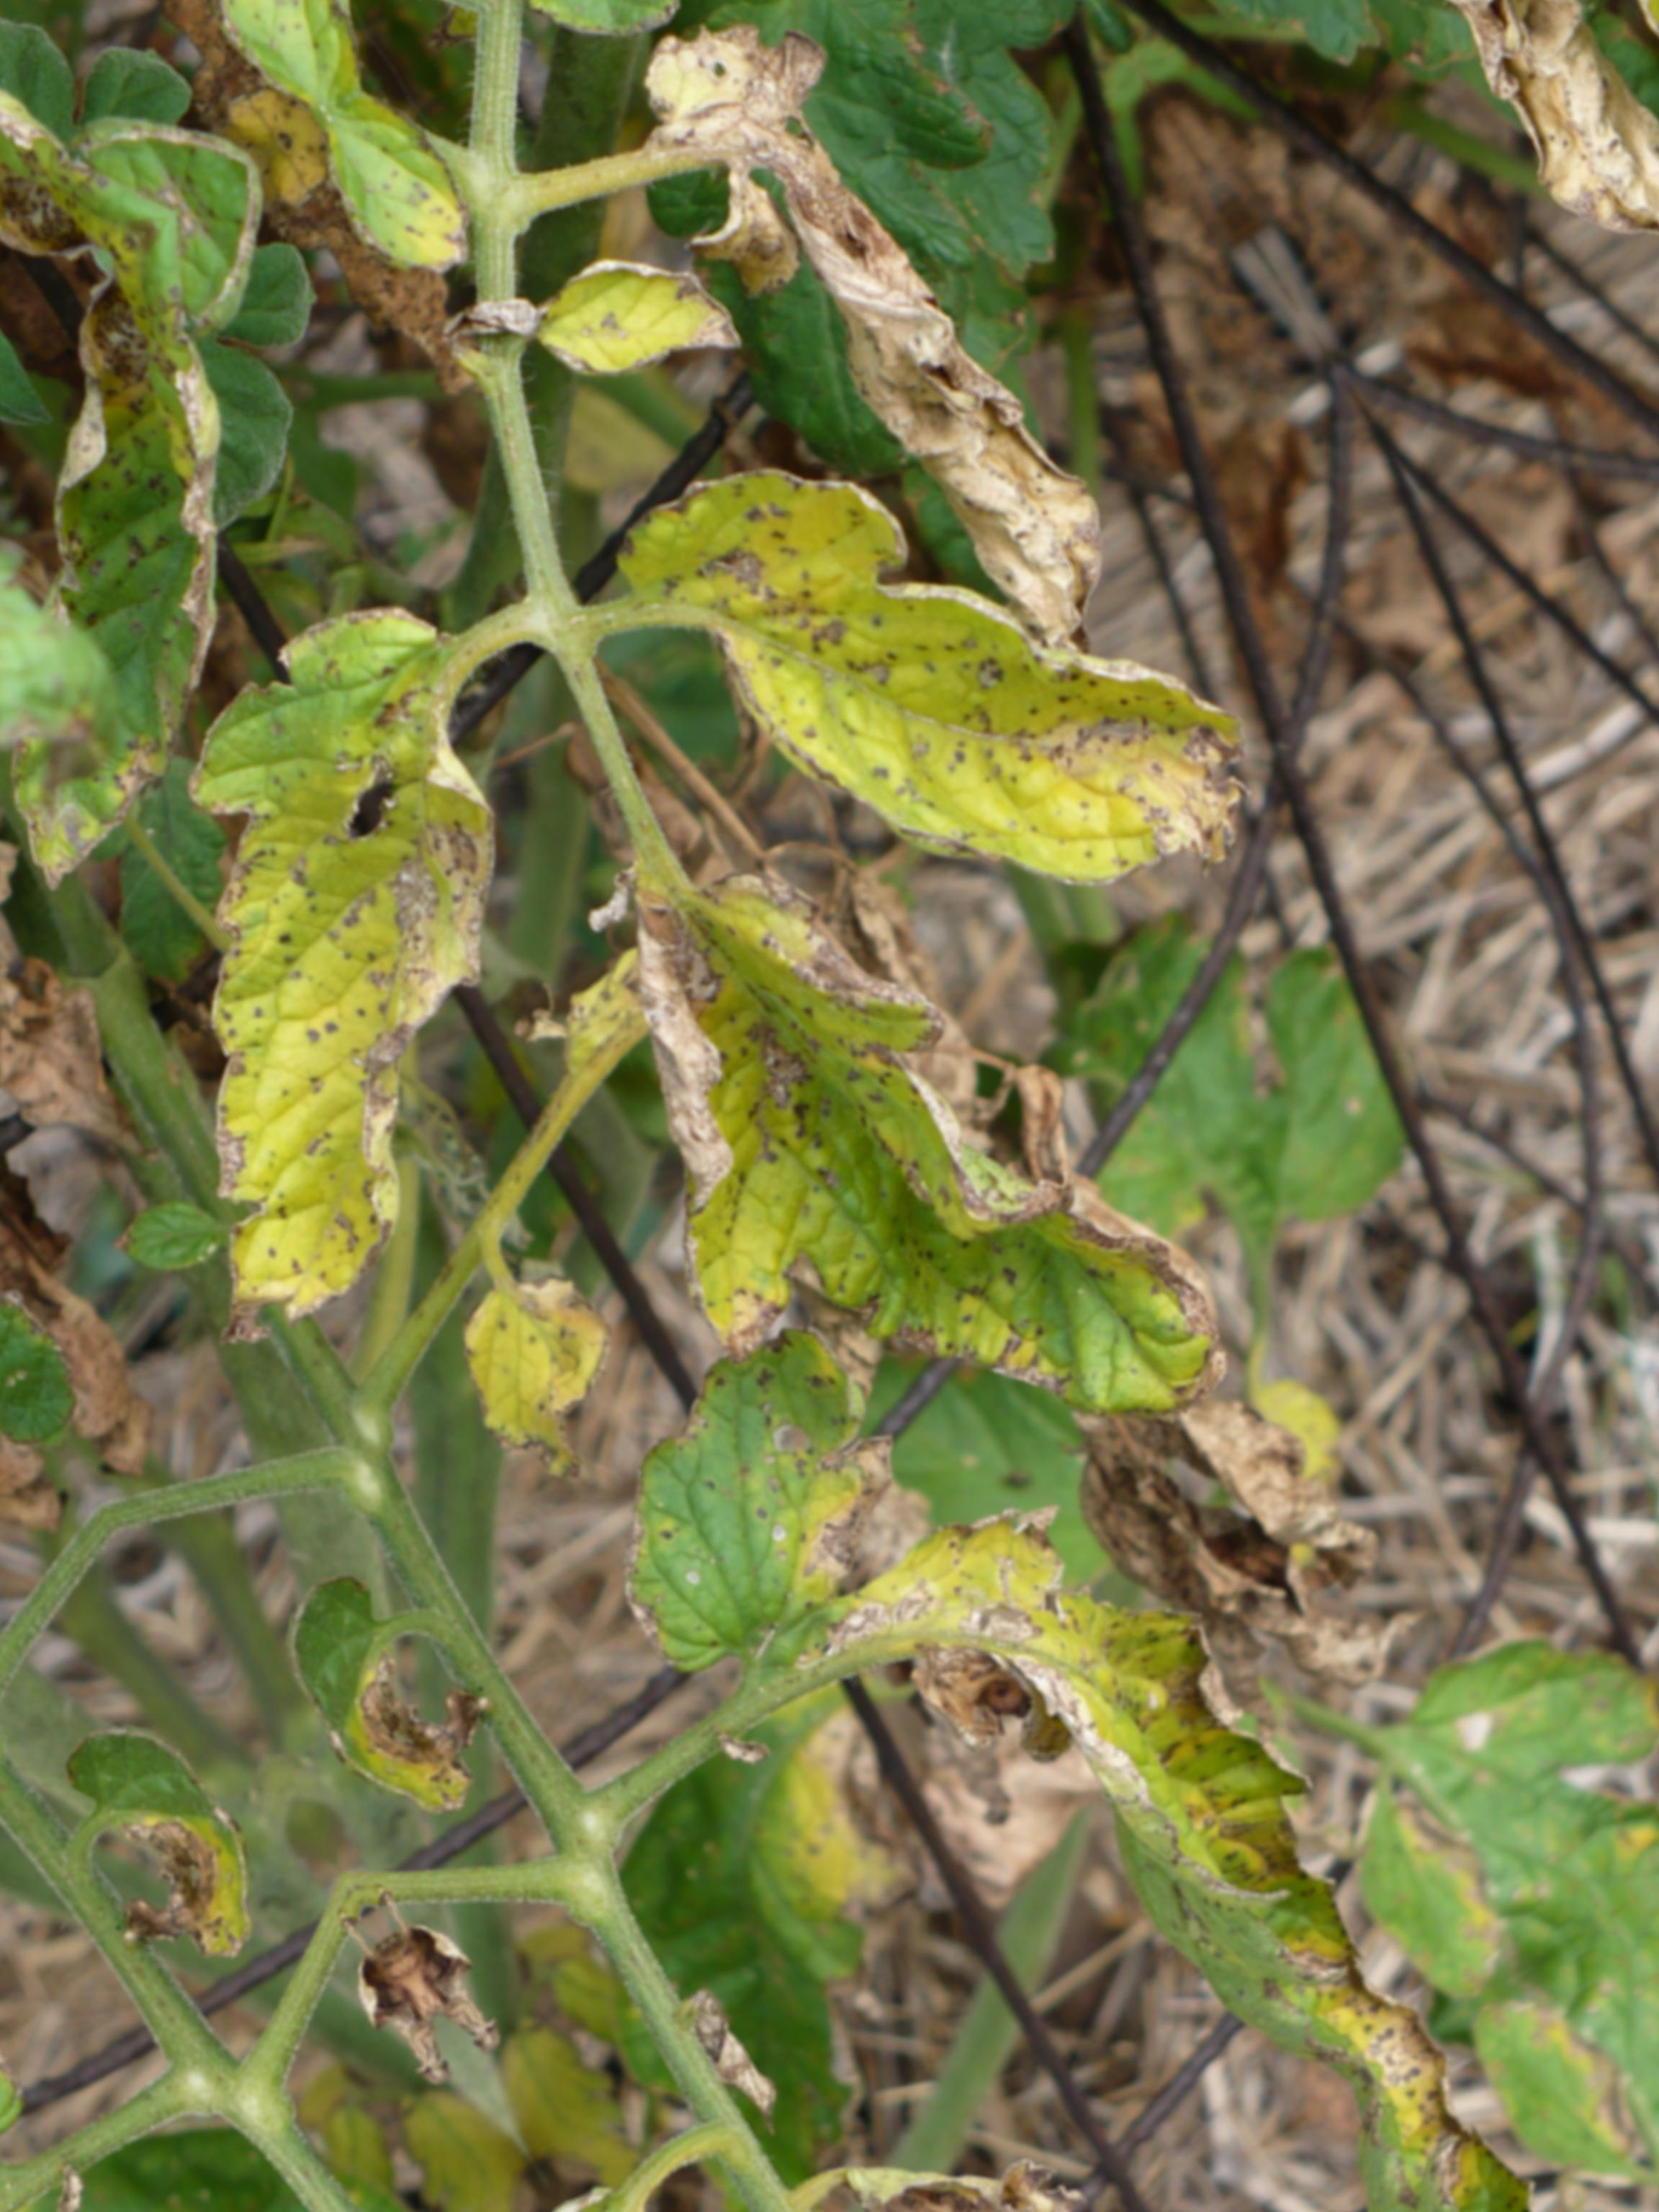Tomato Septoria leaf spot: (493, 1244, 1459, 2212), (0, 533, 774, 1406), (490, 756, 1263, 1592), (559, 320, 1248, 1061)
